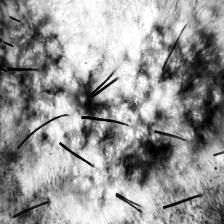Potentially Malignant Skin Tumors: (34, 14, 224, 202)
